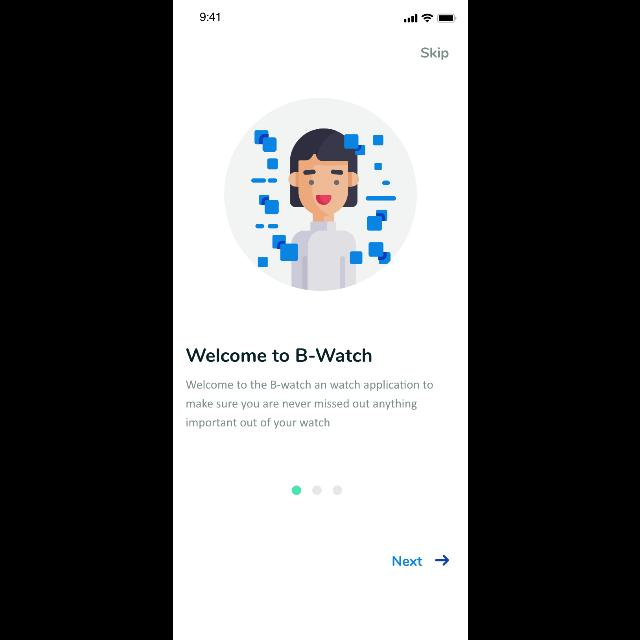icon: (435, 554, 449, 566)
image: (223, 97, 417, 290)
pageindicator: (290, 485, 342, 495)
text: (185, 380, 432, 430), (185, 348, 371, 362), (420, 48, 448, 61), (392, 556, 422, 566)
uppertaskbar: (198, 12, 456, 24)
